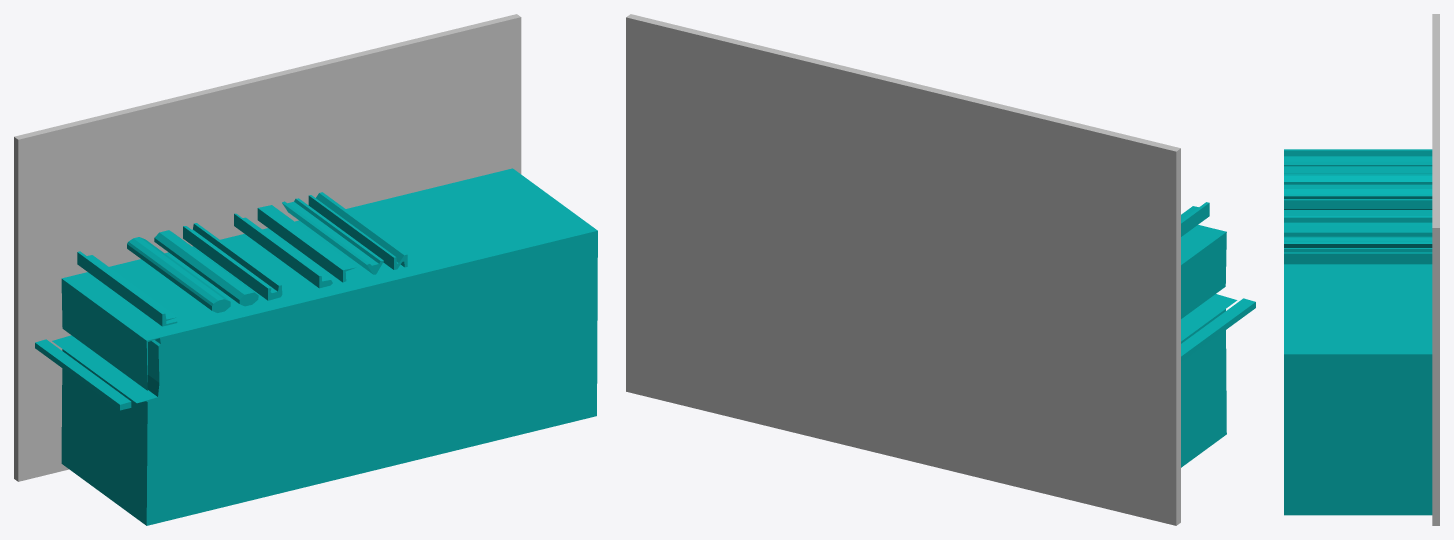
The picture shows the model from 3 angles, left to right: view 1: azimuth 30°, elevation 25°; view 2: azimuth 150°, elevation 25°; view 3: azimuth 270°, elevation 25°; orthographic projection. The views are drawn at different scales.
Parts seen in each view (by area): view 1: world; view 2: world; view 3: world.
Part boxes in pixels (<box>): world: <box>14,14,597,525</box>; world: <box>626,14,1255,525</box>; world: <box>1284,14,1439,525</box>.
Bounding box in the file's own units: 10.23 × 6.65 × 3.15.
